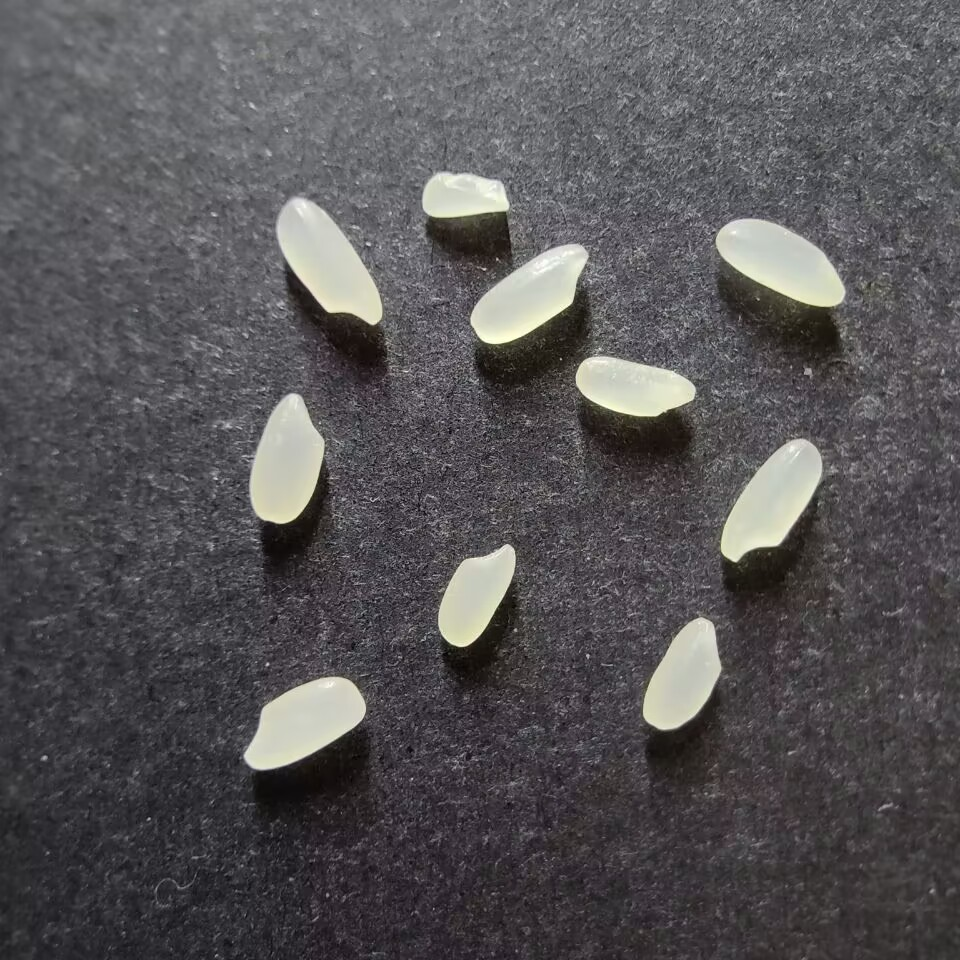broken: (421, 171, 511, 218)
rice: (276, 198, 383, 326), (719, 438, 822, 562), (469, 243, 588, 344), (715, 218, 846, 307), (243, 676, 366, 770), (249, 393, 325, 524), (641, 617, 722, 730), (437, 543, 516, 647), (575, 355, 696, 417)
